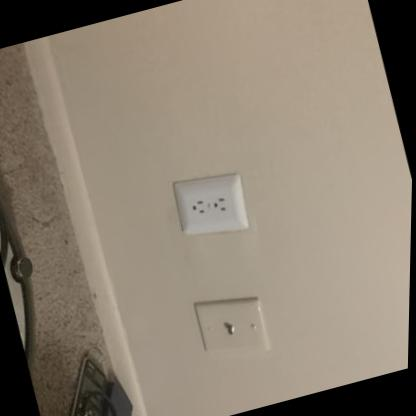OUTLET: (167, 166, 252, 240)
